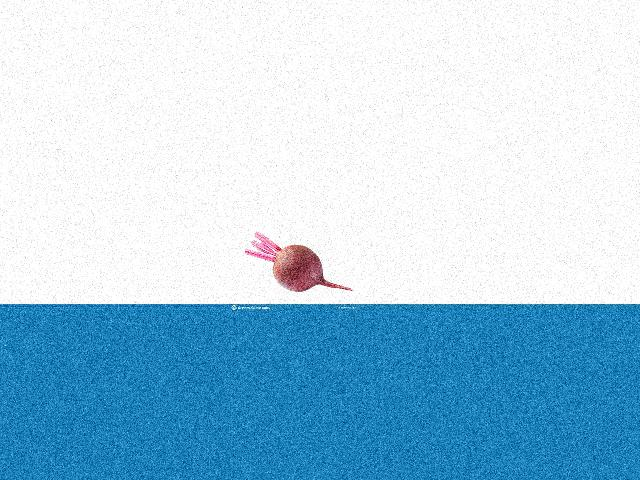beet: (245, 232, 351, 291)
